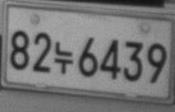2: (32, 31, 51, 73)
3: (122, 40, 144, 82)
4: (99, 38, 121, 79)
6: (78, 37, 98, 77)
8: (9, 29, 30, 71)
9: (146, 42, 167, 83)
누: (54, 41, 74, 75)
